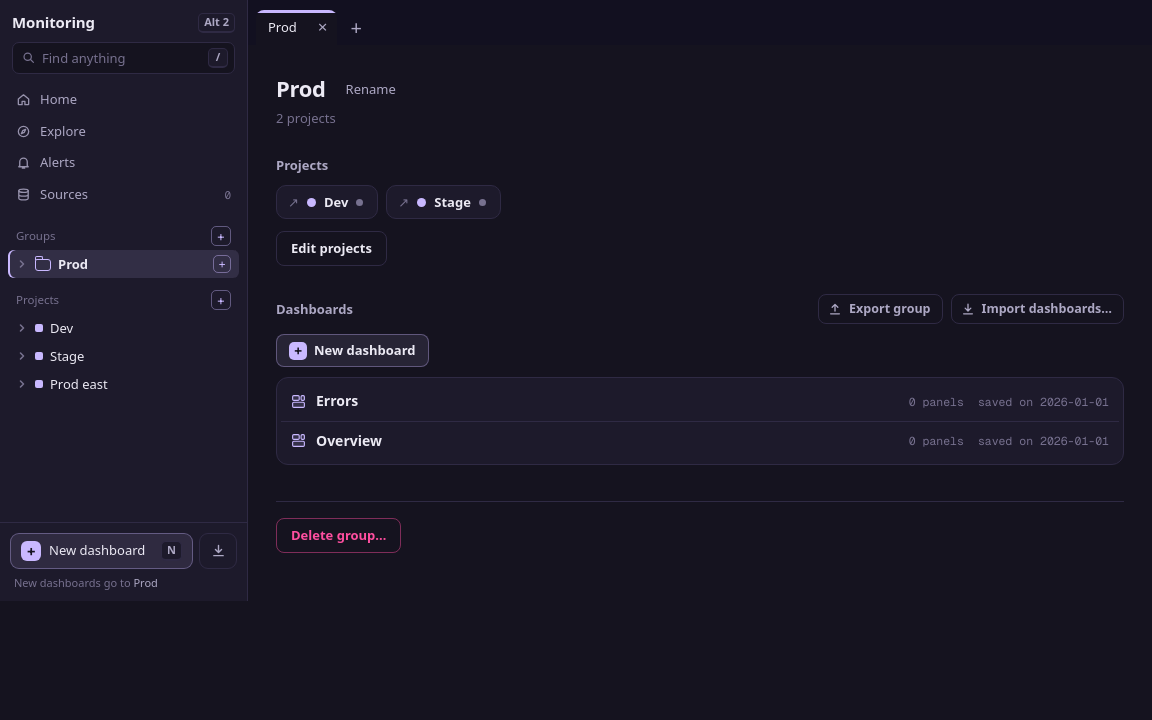
Test: Groups › group page lists group dashboards and its delete lists them
The width and height of the screenshot is (1152, 720).
Later steps or results of the test are not shown.
Expected: the button with aria-label "New dashboard for Prod" is shown, x1=276 y1=334 x2=429 y2=367
Click the button "Delete group…".
click(339, 535)  # box x1=276 y1=518 x2=402 y2=553
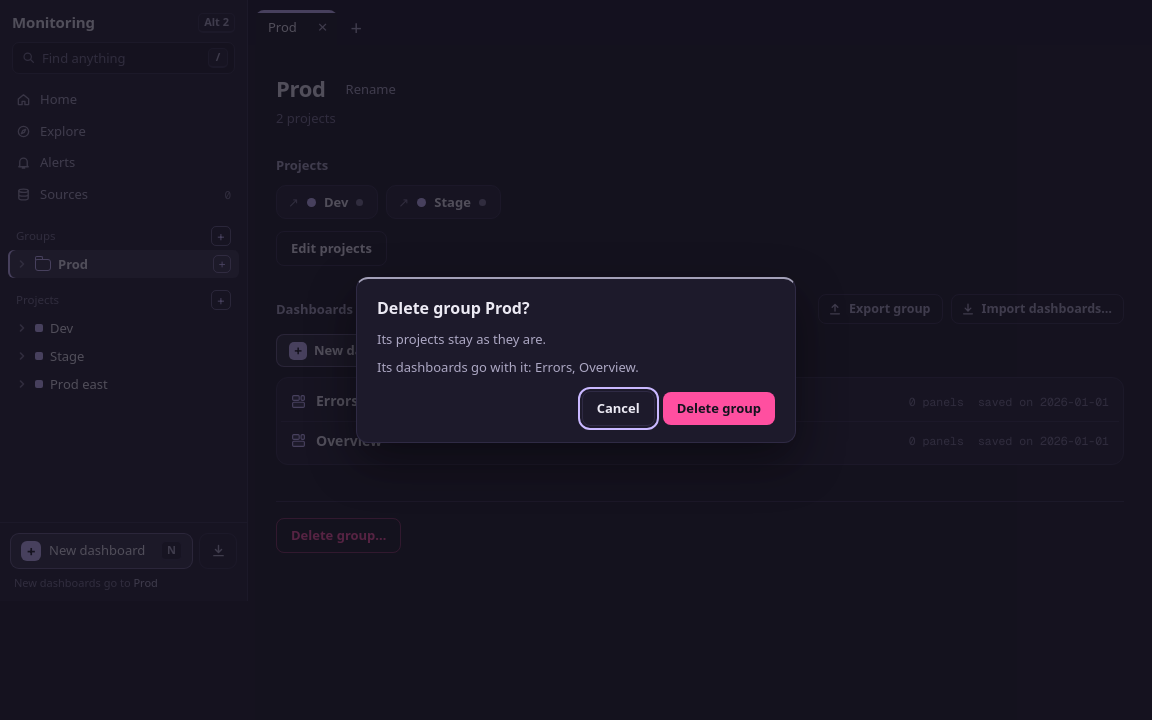
Now the text "Its projects stay as they are." is shown, box x1=377 y1=330 x2=546 y2=348
Now the text "Its dashboards go with it: Errors, Overview." is shown, box x1=377 y1=358 x2=639 y2=376
